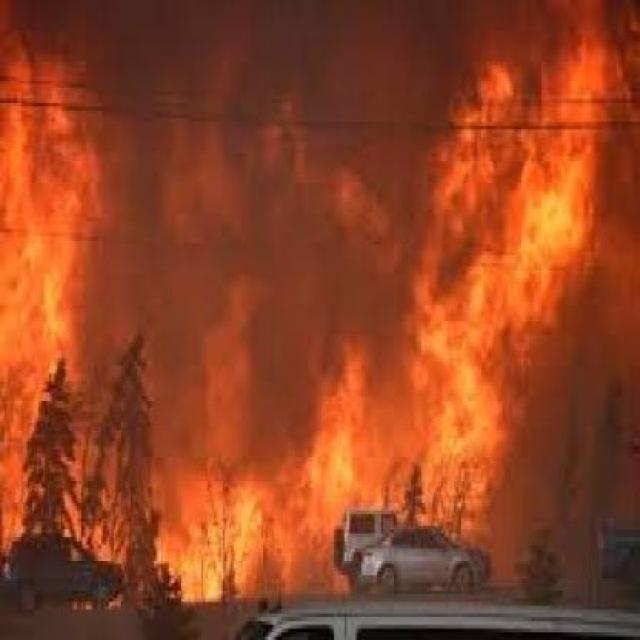Fire: (121, 38, 640, 610)
